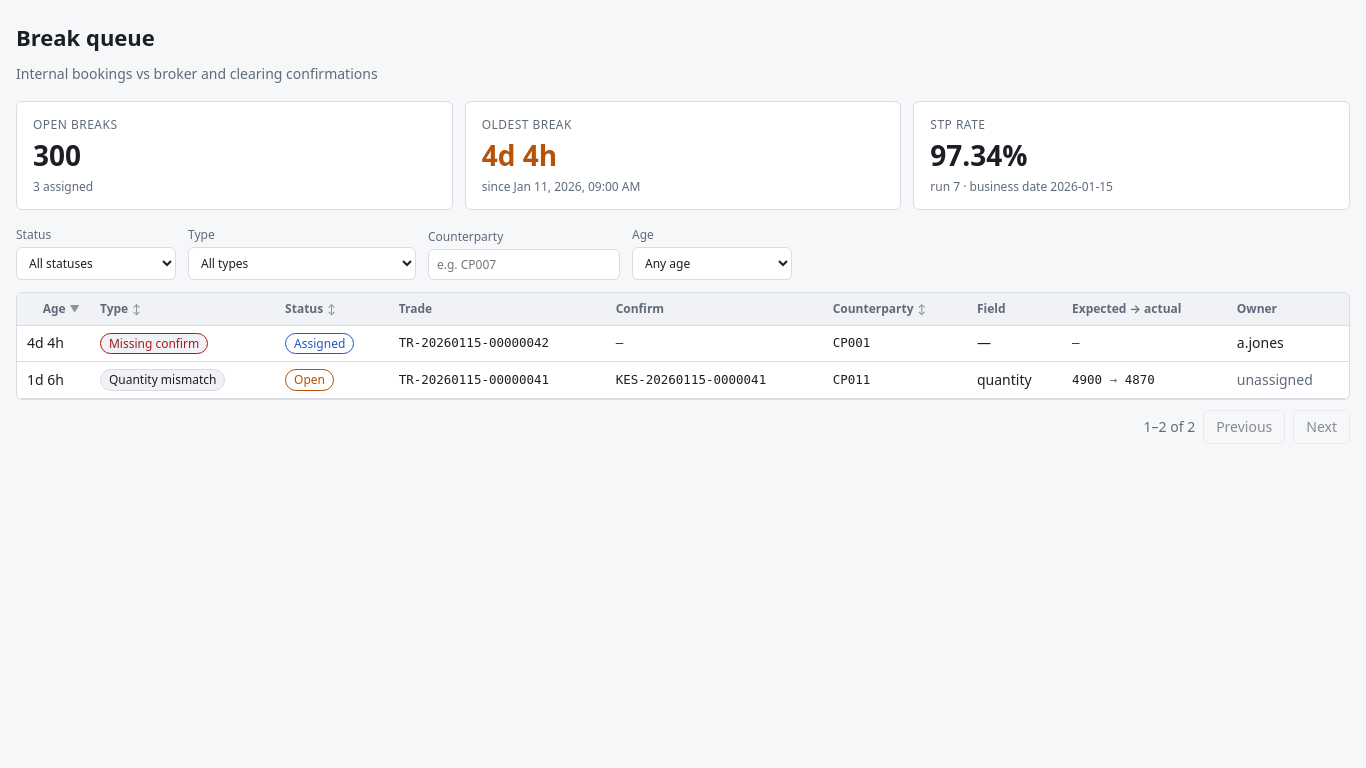
Test case: break drawer › resolves with a reason, sends the version it saw, and refreshes the queue
The image size is (1366, 768).
Click the row named "Break 41": click(683, 380) [17,362,1349,398]
(page scrolled)
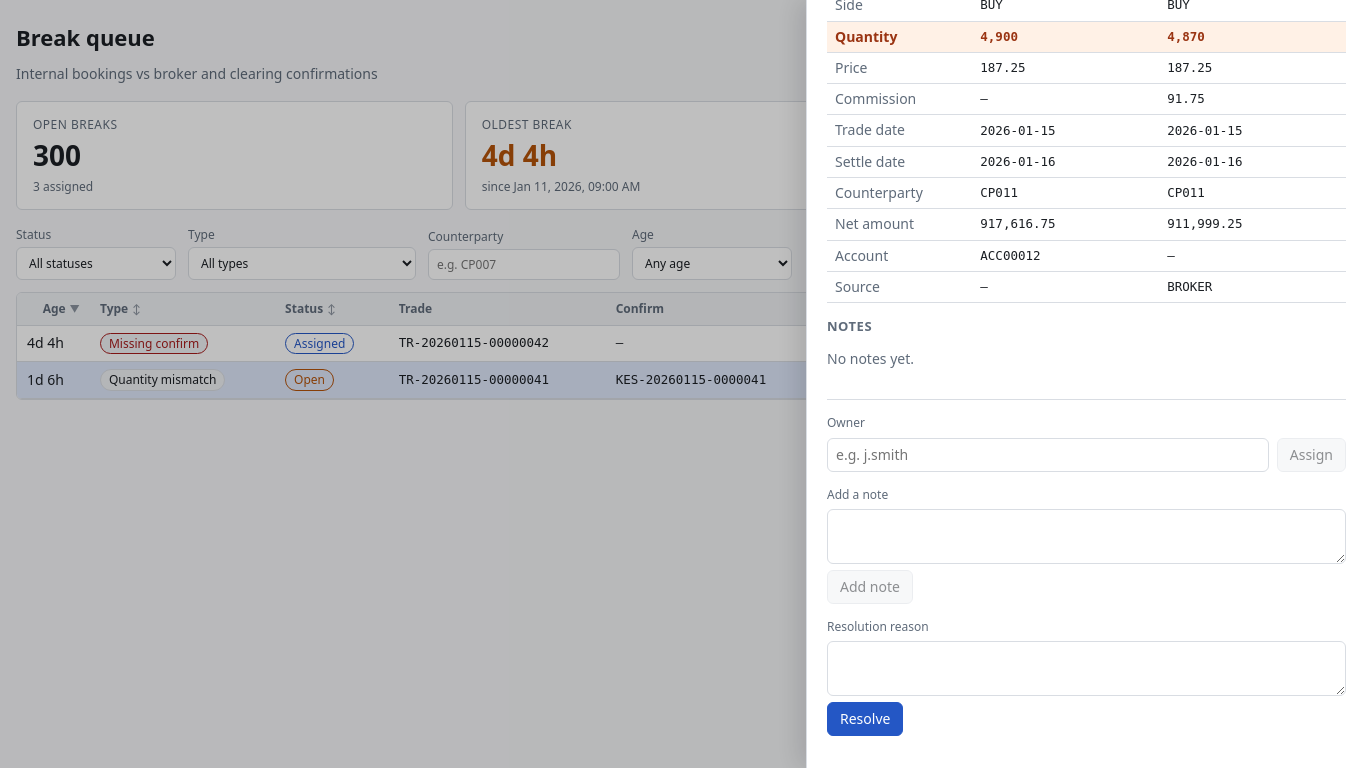
In the text box labelled "Resolution reason": (1086, 669) [827,642,1346,696], type "Broker corrected"
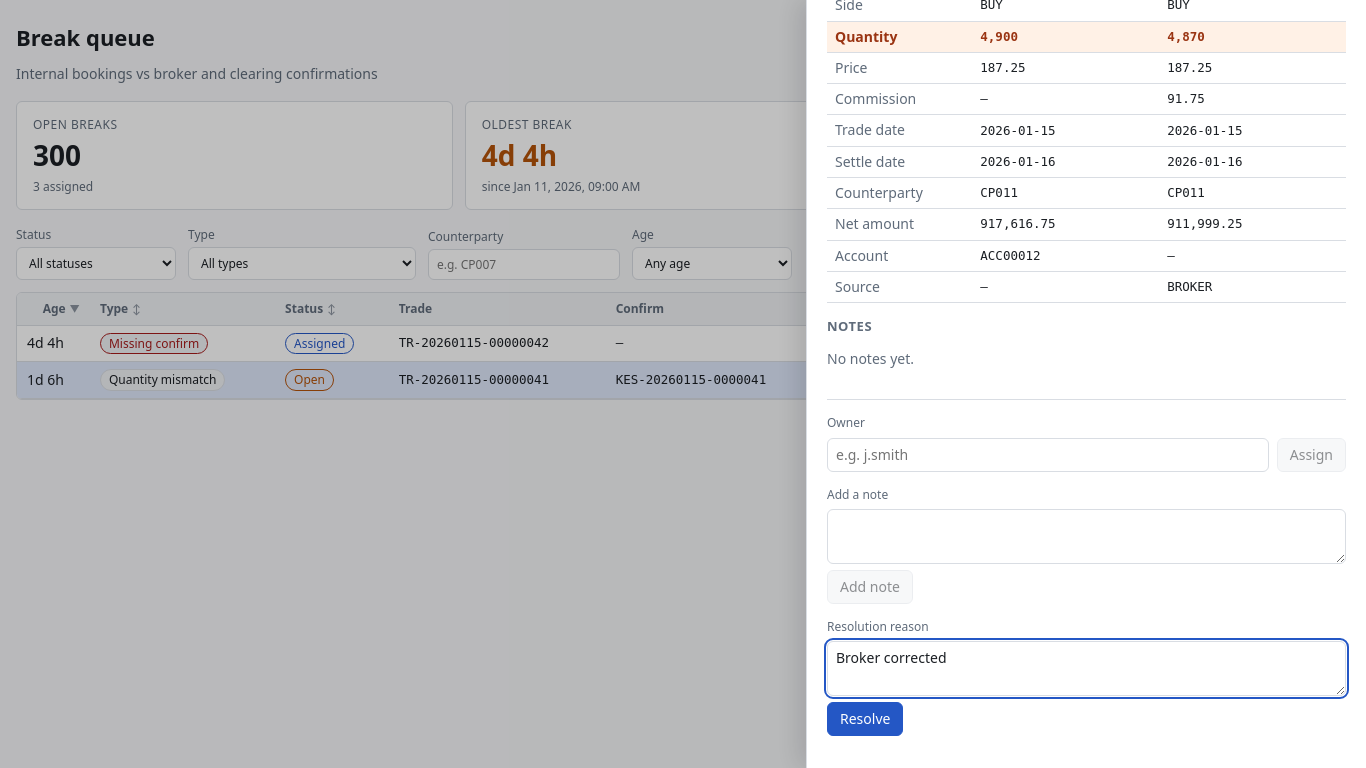
Click the button "Resolve": click(865, 719) [827,702,903,736]
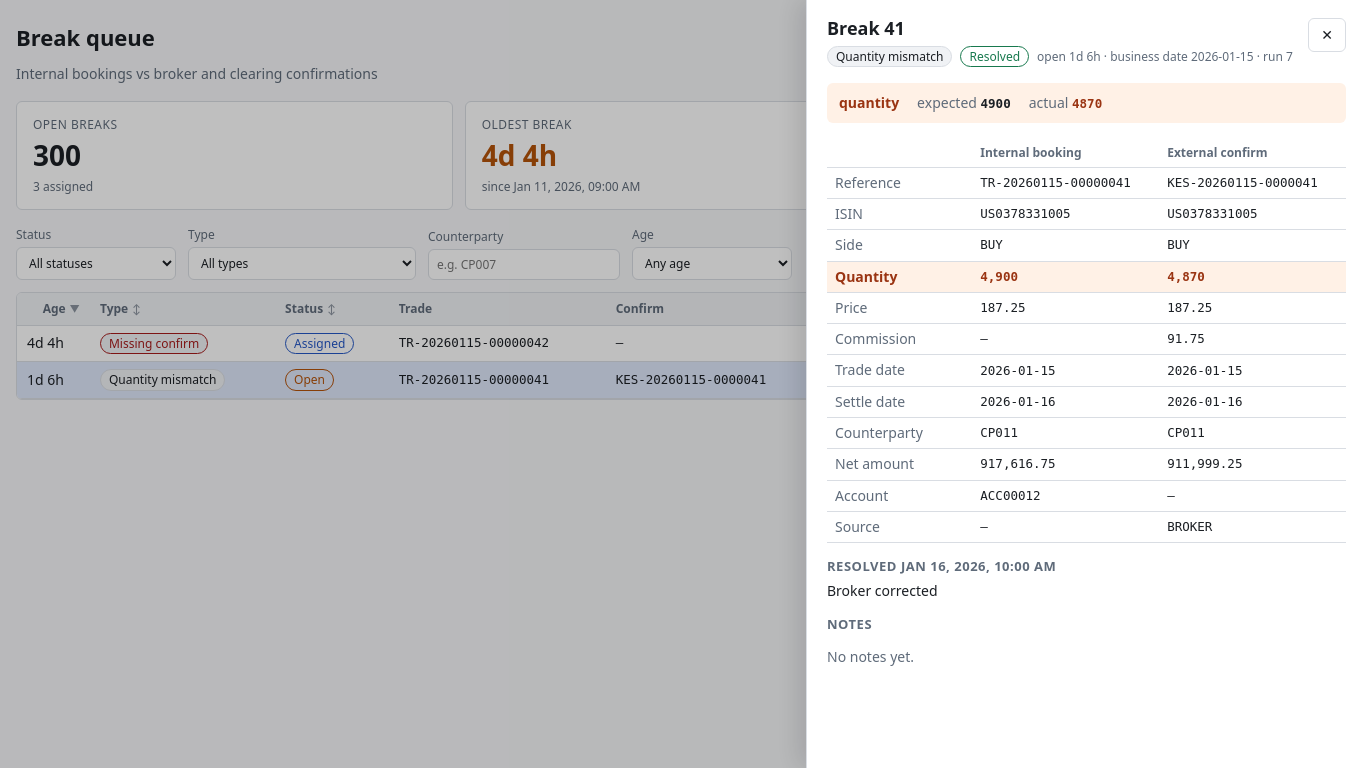
Now the text "Broker corrected" is shown, box [827,581,938,600]
